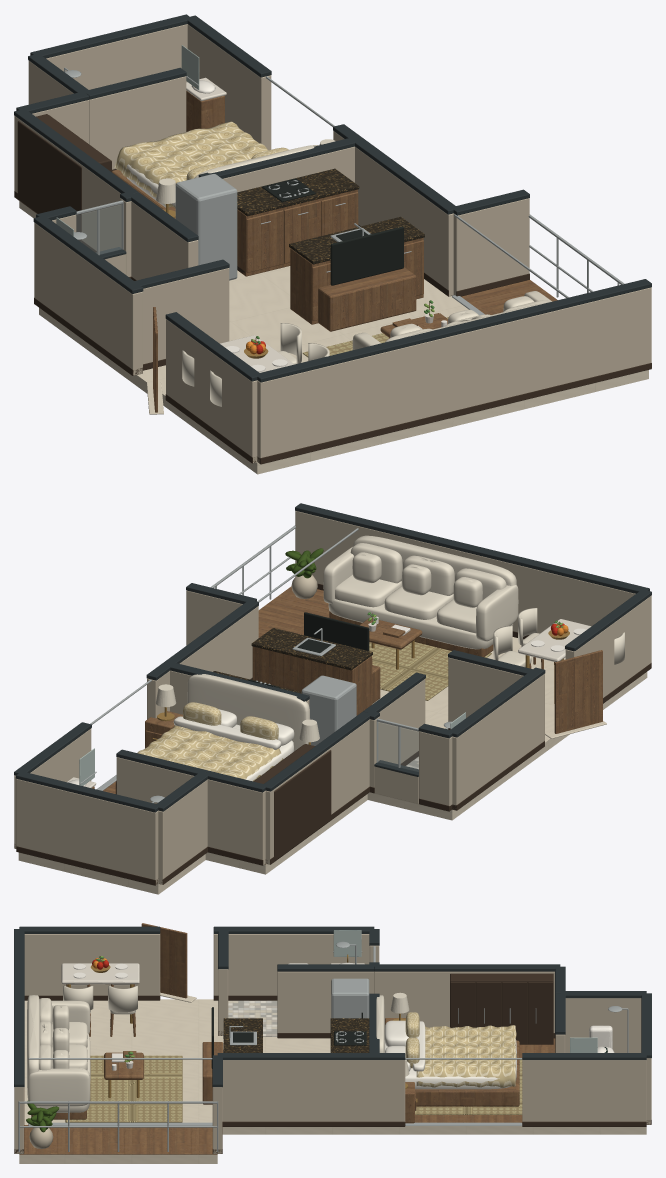
The model's file is lavista-12.glb.
The picture shows the model from 3 angles, top to bottom: view 1: azimuth 30°, elevation 25°; view 2: azimuth 150°, elevation 25°; view 3: azimuth 270°, elevation 25°; orthographic projection. The views are drawn at different scales.
Visible parts, largest first — view 1: Ivory masonry.005, Apartment foundation, Ivory masonry.003, Ivory masonry.004, Ivory masonry.007, Ivory masonry.006, Ivory masonry.012, Soft jacquard duvet with folds.003, Dark fitted wardrobe, Ivory masonry.009, Ivory masonry.015, Brushed refrigerator (+38 smaller); view 2: Ivory masonry.009, Ivory masonry.005, Apartment foundation, Ivory masonry.003, Dark fitted wardrobe, Soft jacquard duvet with folds.003, Padded headboard.003, Ivory masonry.011, Open walnut door leaf, Ivory masonry.004, Ivory masonry, Ivory masonry.007 (+52 smaller); view 3: Apartment foundation, Ivory masonry.007, Ivory masonry.008, Ivory masonry.004, Ivory masonry.003, Living woven carpet, Soft jacquard duvet with folds.003, Ivory masonry.014, Ivory masonry, Ivory masonry.010, Balcony · timber deck.001, Balcony · timber deck (+63 smaller).
Boxes of the visible parts, x1=… form: Ivory masonry.005: x1=257, y1=287, x2=651, y2=463; Apartment foundation: x1=19, y1=201, x2=648, y2=474; Ivory masonry.003: x1=34, y1=222, x2=142, y2=375; Ivory masonry.004: x1=166, y1=319, x2=257, y2=463; Ivory masonry.007: x1=333, y1=131, x2=453, y2=296; Ivory masonry.006: x1=453, y1=198, x2=529, y2=295; Ivory masonry.012: x1=89, y1=76, x2=186, y2=169; Soft jacquard duvet with folds.003: x1=114, y1=121, x2=268, y2=208; Dark fitted wardrobe: x1=17, y1=114, x2=110, y2=242; Ivory masonry.009: x1=46, y1=24, x2=187, y2=89; Ivory masonry.015: x1=143, y1=268, x2=229, y2=364; Brushed refrigerator: x1=175, y1=174, x2=237, y2=280; Ivory masonry.009: x1=16, y1=779, x2=158, y2=885; Ivory masonry.005: x1=295, y1=511, x2=635, y2=634; Apartment foundation: x1=18, y1=637, x2=647, y2=894; Ivory masonry.003: x1=452, y1=673, x2=544, y2=809; Dark fitted wardrobe: x1=254, y1=744, x2=331, y2=861; Soft jacquard duvet with folds.003: x1=137, y1=725, x2=283, y2=781; Padded headboard.003: x1=187, y1=674, x2=310, y2=751; Ivory masonry.011: x1=207, y1=779, x2=265, y2=864; Open walnut door leaf: x1=554, y1=650, x2=602, y2=733; Ivory masonry.004: x1=565, y1=595, x2=651, y2=697; Ivory masonry: x1=265, y1=719, x2=369, y2=864; Ivory masonry.007: x1=147, y1=606, x2=258, y2=719; Apartment foundation: x1=19, y1=999, x2=646, y2=1163; Ivory masonry.007: x1=222, y1=1060, x2=405, y2=1121; Ivory masonry.008: x1=522, y1=1060, x2=646, y2=1121; Ivory masonry.004: x1=24, y1=934, x2=160, y2=995; Ivory masonry.003: x1=213, y1=934, x2=369, y2=995; Living woven carpet: x1=65, y1=1055, x2=182, y2=1122; Soft jacquard duvet with folds.003: x1=416, y1=1025, x2=516, y2=1087; Ivory masonry.014: x1=277, y1=971, x2=374, y2=1032; Ivory masonry: x1=374, y1=971, x2=554, y2=1032; Ivory masonry.010: x1=565, y1=998, x2=641, y2=1052; Balcony · timber deck.001: x1=19, y1=1125, x2=217, y2=1154; Balcony · timber deck: x1=24, y1=1125, x2=212, y2=1153.
Bounding box in the file's own units: 5.96 × 1.37 × 9.54.
25 materials, 6 textured.
